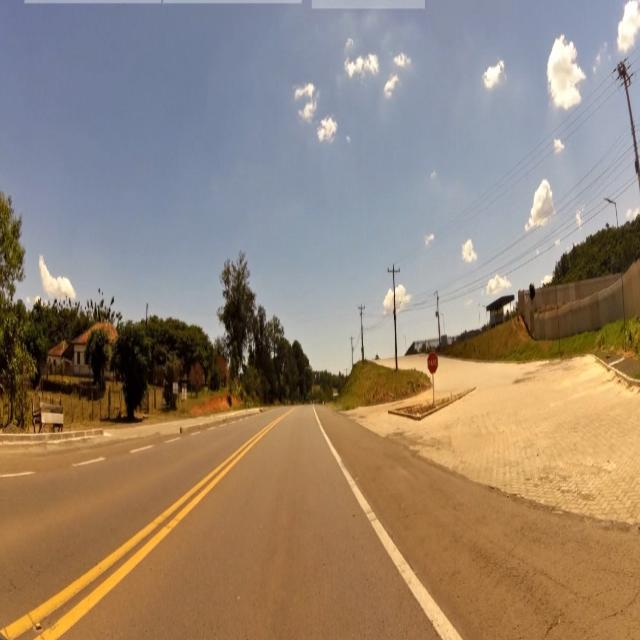R-1: (427, 352, 439, 376)
